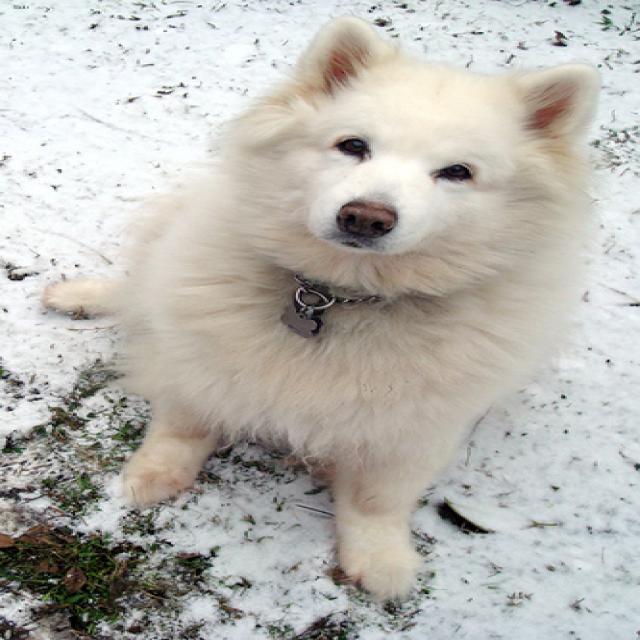dog-samoyed: (23, 4, 632, 614)
